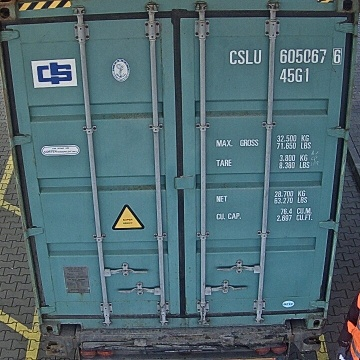serial_id: (228, 48, 341, 65)
